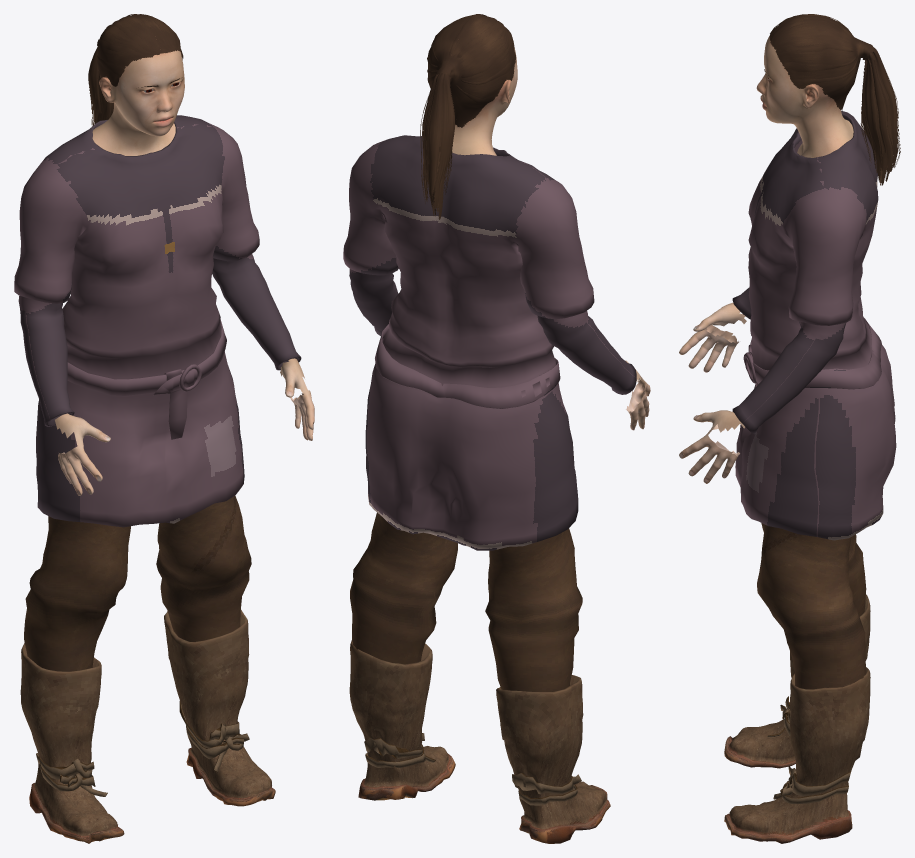
Rendered from mara-field-tunic.glb.
3 views of the same model, side by side, from view 1: azimuth 30°, elevation 25°; view 2: azimuth 150°, elevation 25°; view 3: azimuth 270°, elevation 25° (orthographic). The views are drawn at different scales.
Parts seen in each view (by area): view 1: mara-field-tunic runtime mesh; view 2: mara-field-tunic runtime mesh; view 3: mara-field-tunic runtime mesh.
Part boxes in pixels (x1,y1,x2,y2): mara-field-tunic runtime mesh: [14, 14, 314, 843]; mara-field-tunic runtime mesh: [343, 14, 650, 843]; mara-field-tunic runtime mesh: [679, 14, 900, 843].
Size of the model in its own units: 0.6326 by 1.85 by 0.4767.
7 materials, 7 textured.
